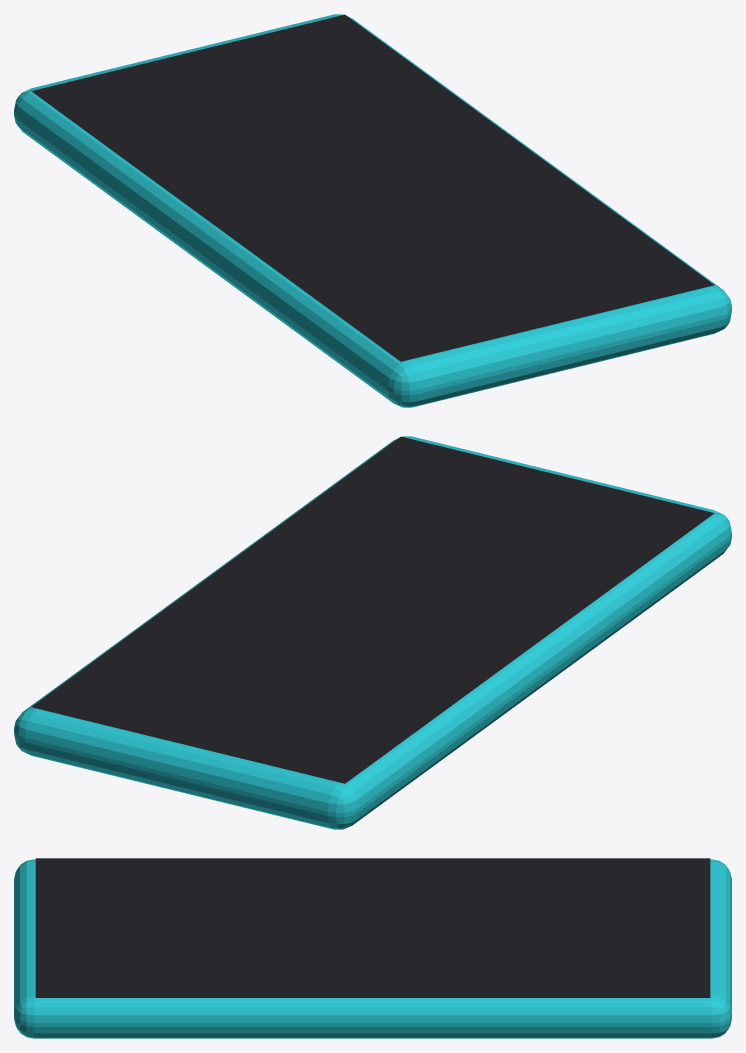
File: motorola-moto-g-model-137-mid-range-2024.glb
3 views of the same model, one above another, from view 1: azimuth 30°, elevation 25°; view 2: azimuth 150°, elevation 25°; view 3: azimuth 270°, elevation 25° (orthographic). The views are drawn at different scales.
Parts seen in each view (by area): view 1: Phone_Screen, Phone_Body; view 2: Phone_Screen, Phone_Body; view 3: Phone_Screen, Phone_Body.
Part boxes in pixels (left/top/right/bottom): Phone_Screen: left=31, top=14, right=714, bottom=361; Phone_Body: left=14, top=14, right=731, bottom=407; Phone_Screen: left=31, top=436, right=714, bottom=783; Phone_Body: left=14, top=436, right=731, bottom=829; Phone_Screen: left=35, top=858, right=710, bottom=997; Phone_Body: left=14, top=859, right=731, bottom=1038.
Bounding box in the file's own units: 0.0798 × 0.0101 × 0.1593.
